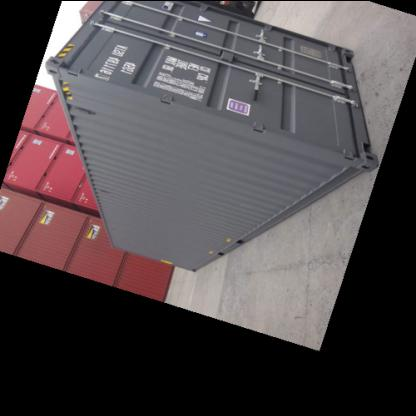Damage: (65, 27, 97, 71), (92, 184, 114, 202)
